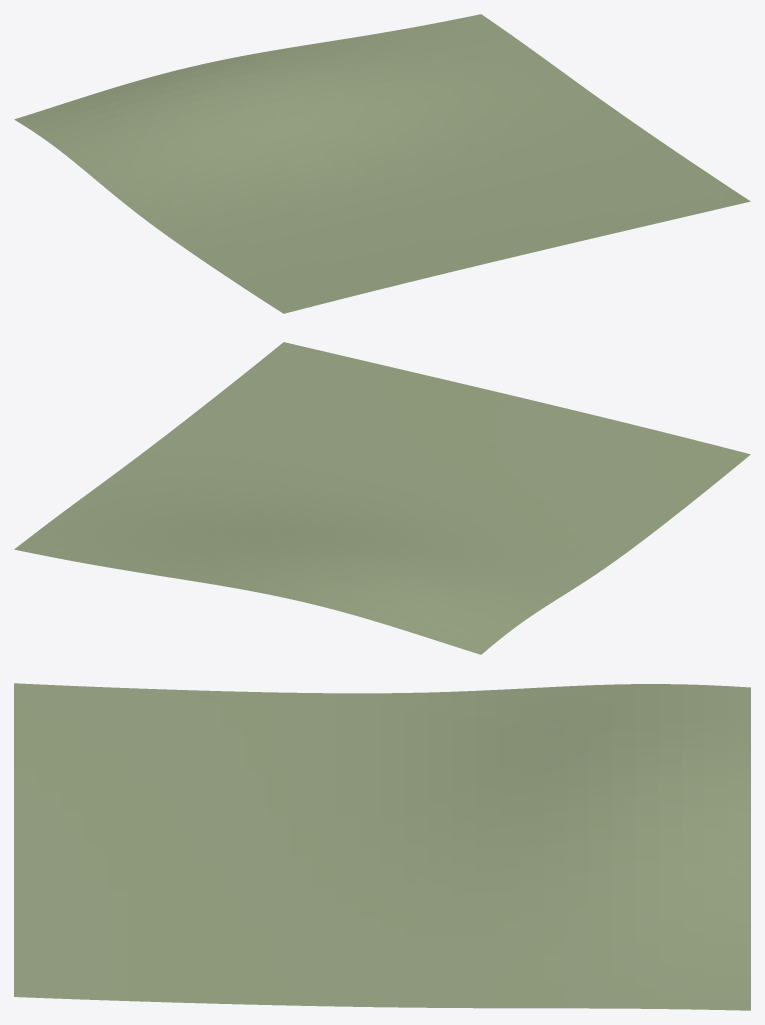
File: lunar-3-2.glb
3 views of the same model, one above another, from view 1: azimuth 30°, elevation 25°; view 2: azimuth 150°, elevation 25°; view 3: azimuth 270°, elevation 25° (orthographic). The views are drawn at different scales.
Visible parts, largest first — view 1: lunar-3-2; view 2: lunar-3-2; view 3: lunar-3-2.
Part boxes in pixels (x1=…): lunar-3-2: x1=14, y1=14, x2=750, y2=313; lunar-3-2: x1=14, y1=342, x2=750, y2=654; lunar-3-2: x1=14, y1=683, x2=750, y2=1010.
Bounding box in the file's own units: 128 × 6.06 × 128.
